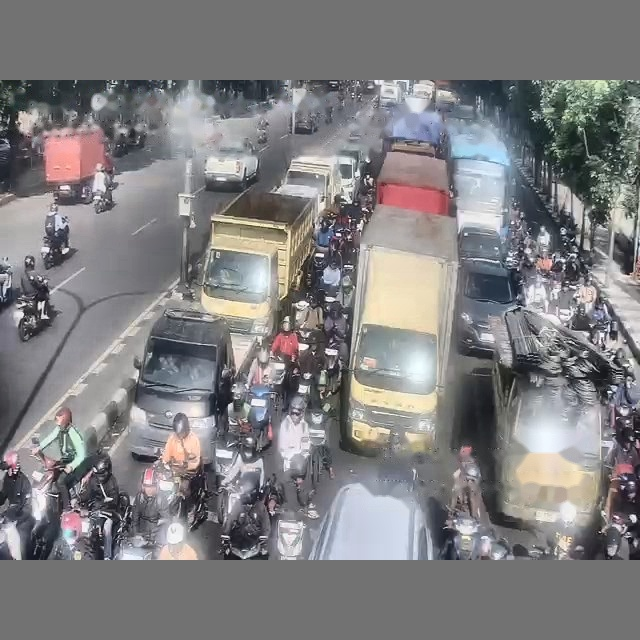Mobil: (128, 308, 234, 464), (308, 483, 434, 559), (457, 258, 520, 356), (204, 139, 259, 190), (459, 226, 504, 262), (293, 109, 319, 133)
Motor: (154, 459, 208, 530), (13, 296, 52, 341), (308, 405, 328, 487), (276, 517, 304, 559), (40, 235, 63, 269), (0, 258, 13, 305), (93, 191, 111, 214)
Truk: (340, 205, 457, 452), (199, 191, 315, 337), (43, 126, 112, 203), (376, 151, 449, 215)
